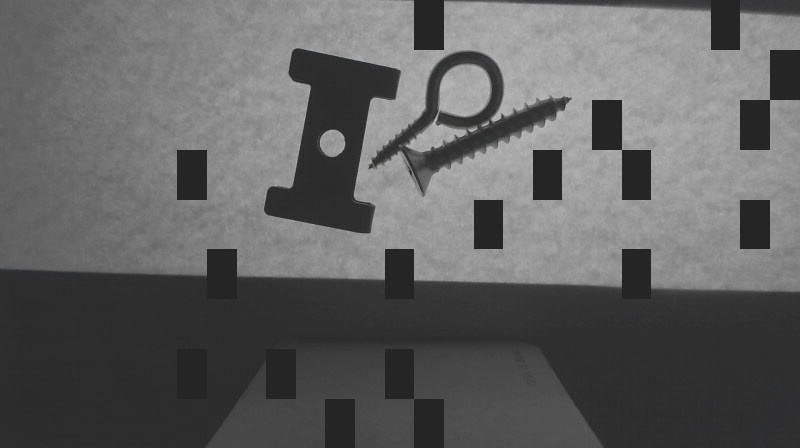O001: (365, 48, 507, 174)
O002: (262, 47, 400, 235)
S001: (394, 92, 575, 197)
